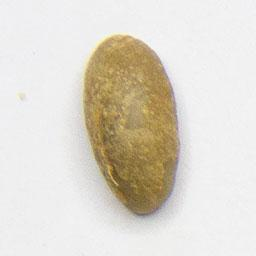longberry: (78, 28, 185, 217)
